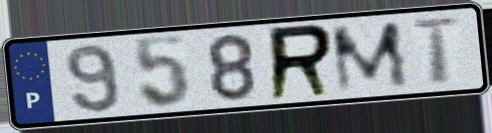5: (128, 32, 196, 111)
8: (204, 32, 259, 104)
9: (61, 41, 123, 115)
M: (327, 17, 414, 95)
R: (266, 21, 336, 104)
T: (408, 15, 465, 87)
